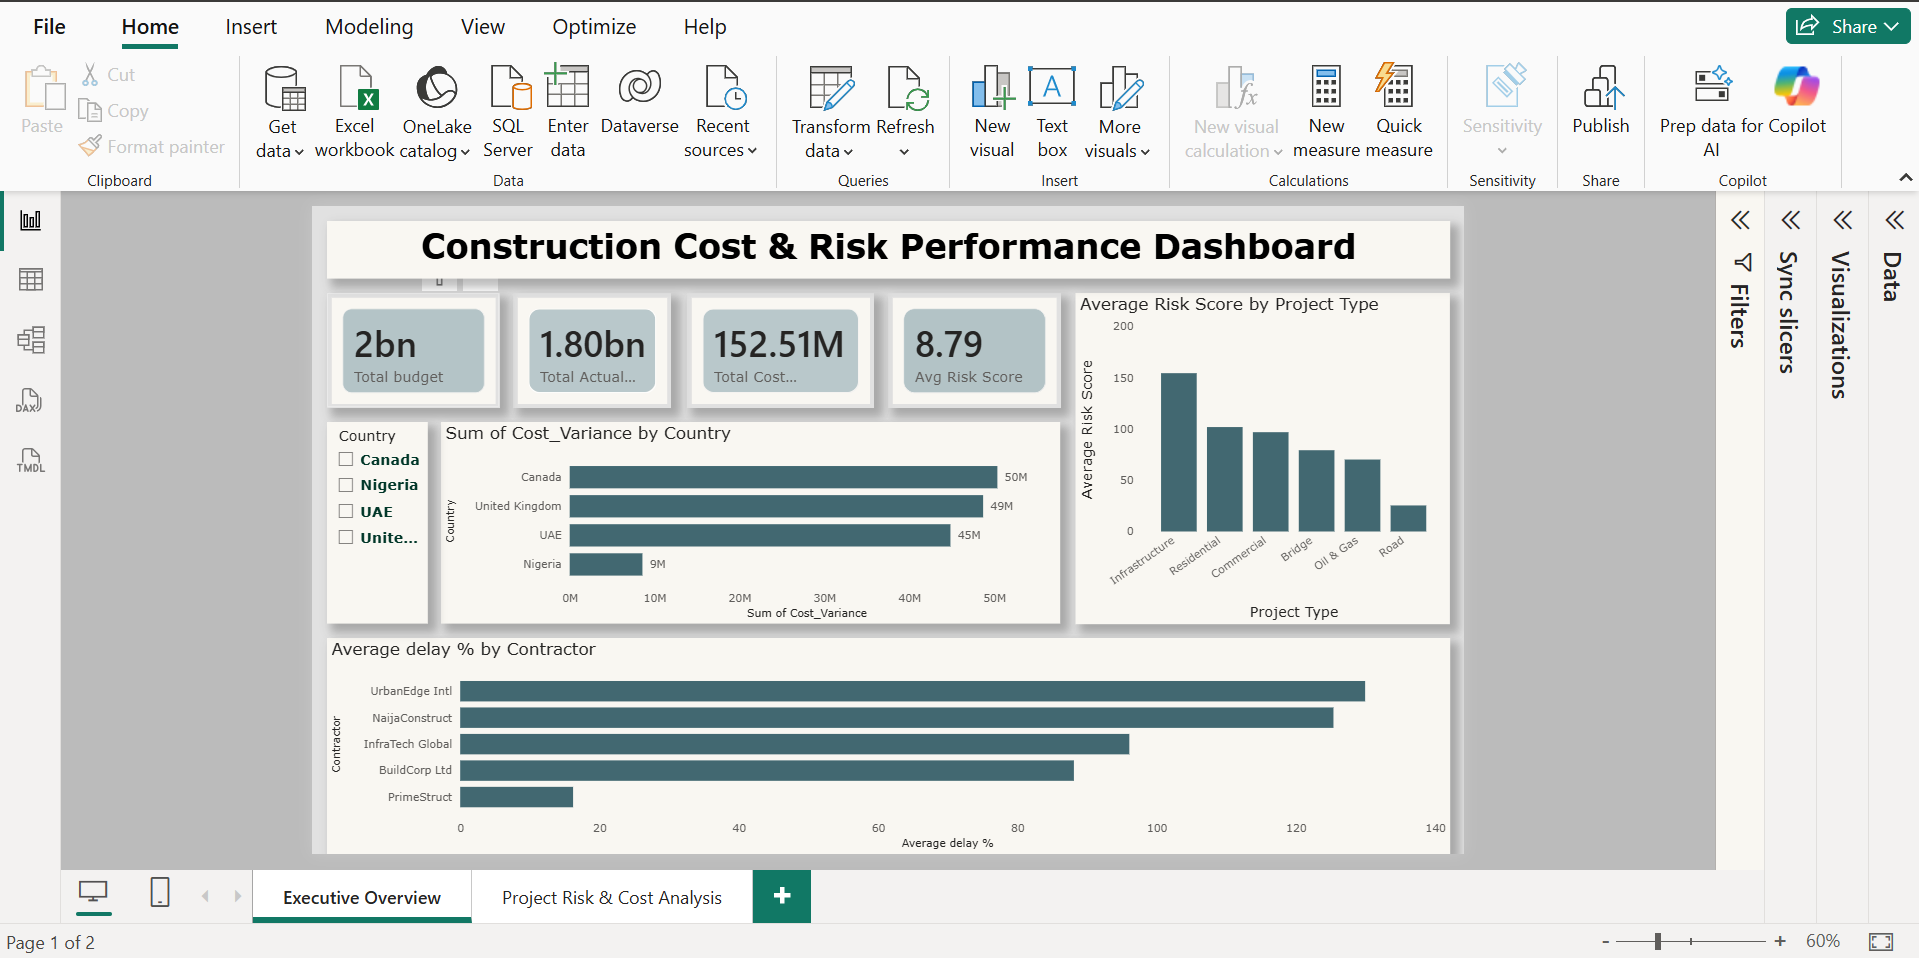

The page's visual inventory and layout, read from the dashboard file:
{"tool":"powerbi","page":{"name":"Executive Overview","canvas":[1280,720],"ordinal":0},"visuals":[{"type":"cardVisual","fields":{"Data":["Sum(construction_analytics project_risk_analysis (2).Budget_USD)"]},"box":[16,96,192,128],"z":0},{"type":"cardVisual","fields":{"Data":["Sum(construction_analytics project_risk_analysis (2).Actual_Cost_USD)"]},"box":[224,96,176,128],"z":1000},{"type":"cardVisual","fields":{"Data":["Sum(construction_analytics project_risk_analysis (2).Cost_Variance)"]},"box":[416,96,208,128],"z":2000},{"type":"cardVisual","fields":{"Data":["Avg(construction_analytics project_risk_analysis (2).Overall_Risk_Score)"]},"box":[640,96,192,128],"z":3000},{"type":"clusteredBarChart","fields":{"Category":["construction_analytics project_risk_analysis (2).Country"],"Y":["Sum(construction_analytics project_risk_analysis (2).Cost_Variance)"]},"box":[144,240,688,224],"z":4000},{"type":"clusteredColumnChart","fields":{"Category":["construction_analytics project_risk_analysis (2).Project_Type"],"Y":["Sum(construction_analytics project_risk_analysis (2).Overall_Risk_Score)"]},"box":[848,96,416,368],"z":5000},{"type":"clusteredBarChart","fields":{"Category":["construction_analytics project_risk_analysis (2).Contractor"],"Y":["Sum(construction_analytics project_risk_analysis (2).Delay_Pct)"]},"box":[16,480,1248,240],"z":6000},{"type":"slicer","fields":{"Values":["construction_analytics project_risk_analysis (2).Country"]},"box":[16,240,112,224],"z":7000},{"type":"textbox","box":[16,16,1248,64],"z":8000}]}

Visuals, with their boxes on the page's 1280x720 design canvas (x1, y1, x2, y2). These are canvas units, not pixel positions in the 1919x958 screenshot, which may show the page scaled, cropped or inside an application window:
cardVisual - Sum(construction_analytics project_risk_analysis (2).Budget_USD): region(16, 96, 208, 224)
cardVisual - Sum(construction_analytics project_risk_analysis (2).Actual_Cost_USD): region(224, 96, 400, 224)
cardVisual - Sum(construction_analytics project_risk_analysis (2).Cost_Variance): region(416, 96, 624, 224)
cardVisual - Avg(construction_analytics project_risk_analysis (2).Overall_Risk_Score): region(640, 96, 832, 224)
clusteredBarChart - construction_analytics project_risk_analysis (2).Country x Sum(construction_analytics project_risk_analysis (2).Cost_Variance): region(144, 240, 832, 464)
clusteredColumnChart - construction_analytics project_risk_analysis (2).Project_Type x Sum(construction_analytics project_risk_analysis (2).Overall_Risk_Score): region(848, 96, 1264, 464)
clusteredBarChart - construction_analytics project_risk_analysis (2).Contractor x Sum(construction_analytics project_risk_analysis (2).Delay_Pct): region(16, 480, 1264, 720)
slicer - construction_analytics project_risk_analysis (2).Country: region(16, 240, 128, 464)
textbox: region(16, 16, 1264, 80)
